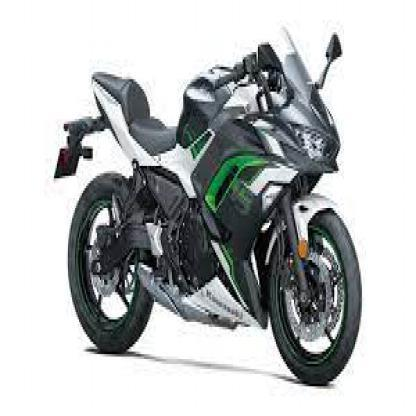Motorcycle: (49, 22, 365, 389)
